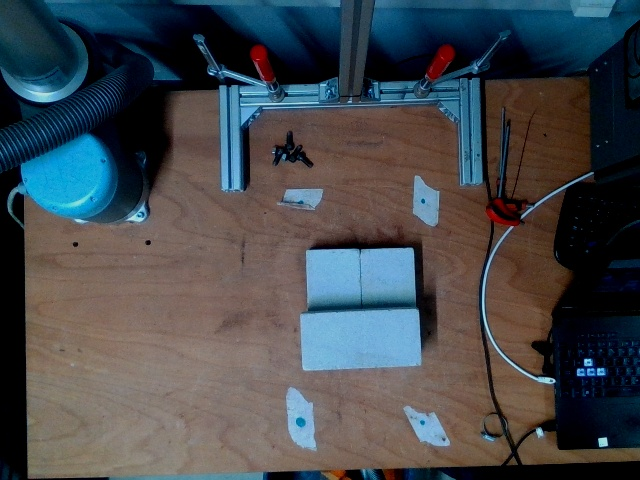brick: (301, 309, 422, 370)
